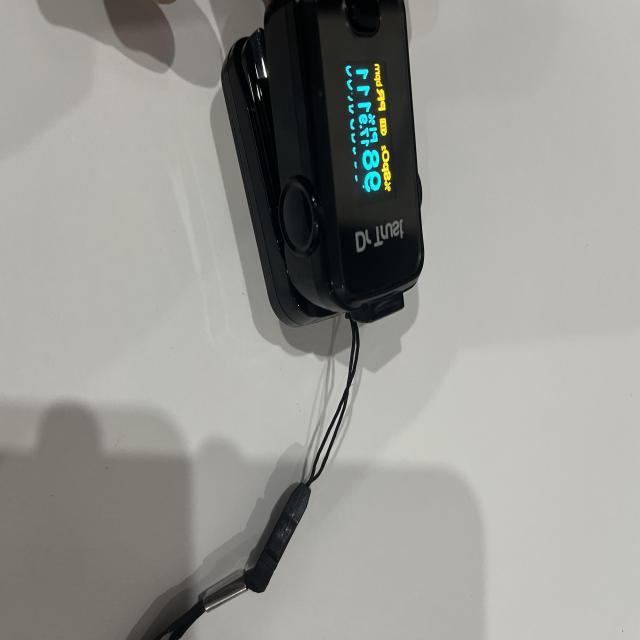spo2: (224, 0, 425, 328)
